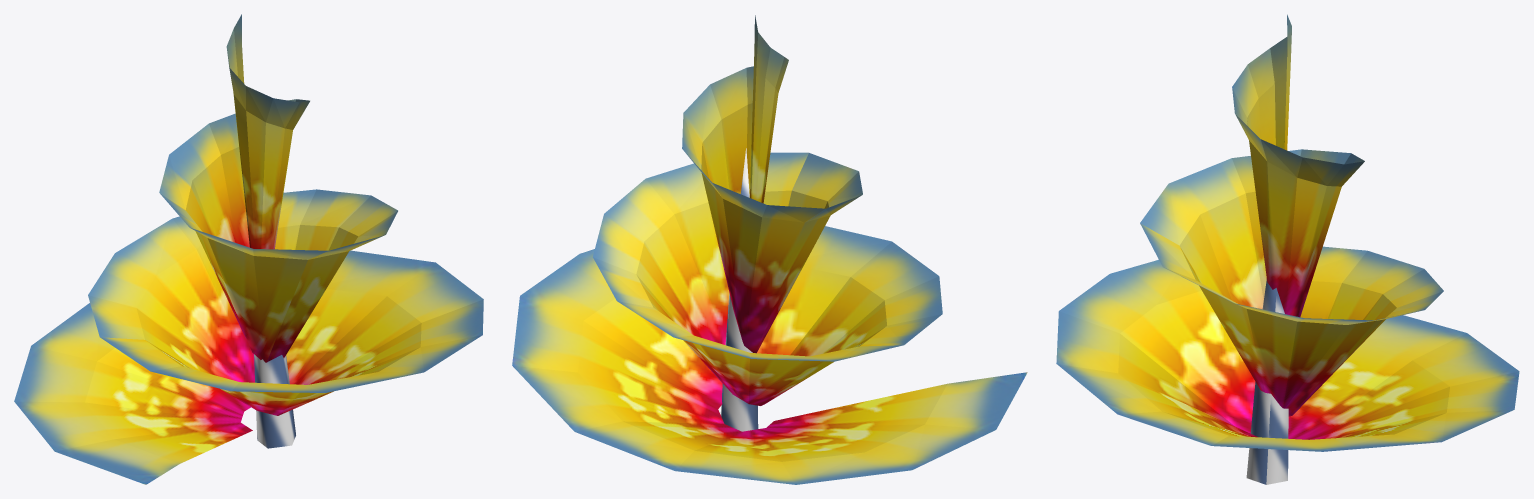
The model's file is coral_02.FBX.
3 renders of one model, left to right at view 1: azimuth 30°, elevation 25°; view 2: azimuth 150°, elevation 25°; view 3: azimuth 270°, elevation 25°, orthographic. The views are drawn at different scales.
Parts seen in each view (by area): view 1: coral_02; view 2: coral_02; view 3: coral_02.
Boxes of the visible parts, x1=… form: coral_02: x1=14, y1=14, x2=483, y2=484; coral_02: x1=512, y1=15, x2=1027, y2=484; coral_02: x1=1056, y1=14, x2=1519, y2=484.
Bounding box in the file's own units: 20.15 × 19.53 × 18.18.
